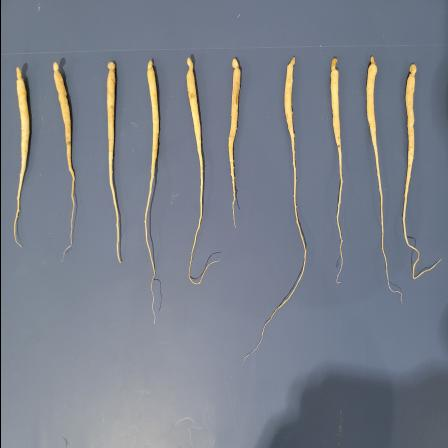Ginseng: (243, 55, 306, 359), (363, 52, 402, 304), (402, 60, 442, 282), (184, 51, 220, 286), (50, 61, 78, 265), (142, 54, 160, 326), (102, 55, 122, 265), (10, 65, 30, 251), (328, 52, 344, 282), (227, 54, 241, 230)
head: (12, 66, 24, 86), (184, 56, 195, 76), (104, 60, 116, 76), (284, 56, 296, 72), (230, 57, 240, 75), (329, 57, 339, 75), (366, 55, 377, 71), (406, 62, 416, 79), (144, 59, 154, 75), (51, 62, 62, 76)
